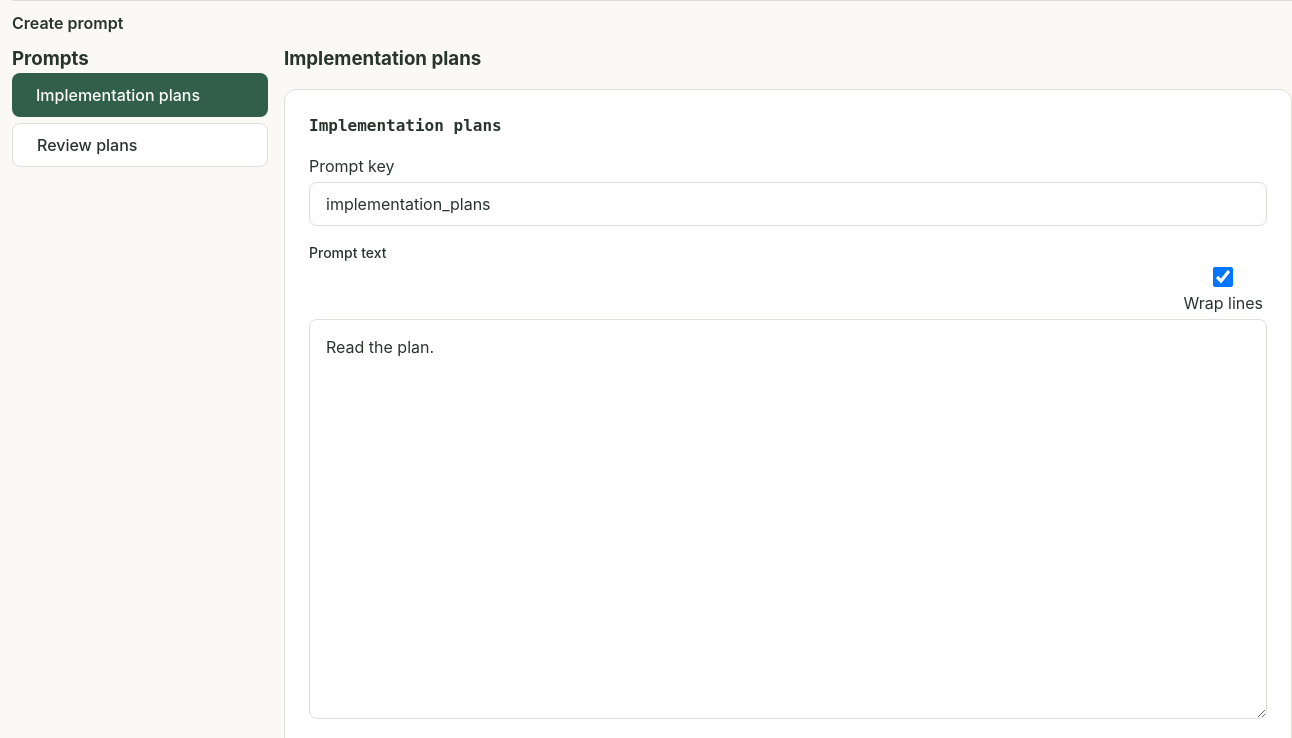
Test: PromptsSettings › opens and closes the More menu with the keyboard
Click the button "Review plans" at {"x": 140, "y": 145}, box top-left (12, 123), bottom-right (268, 167)
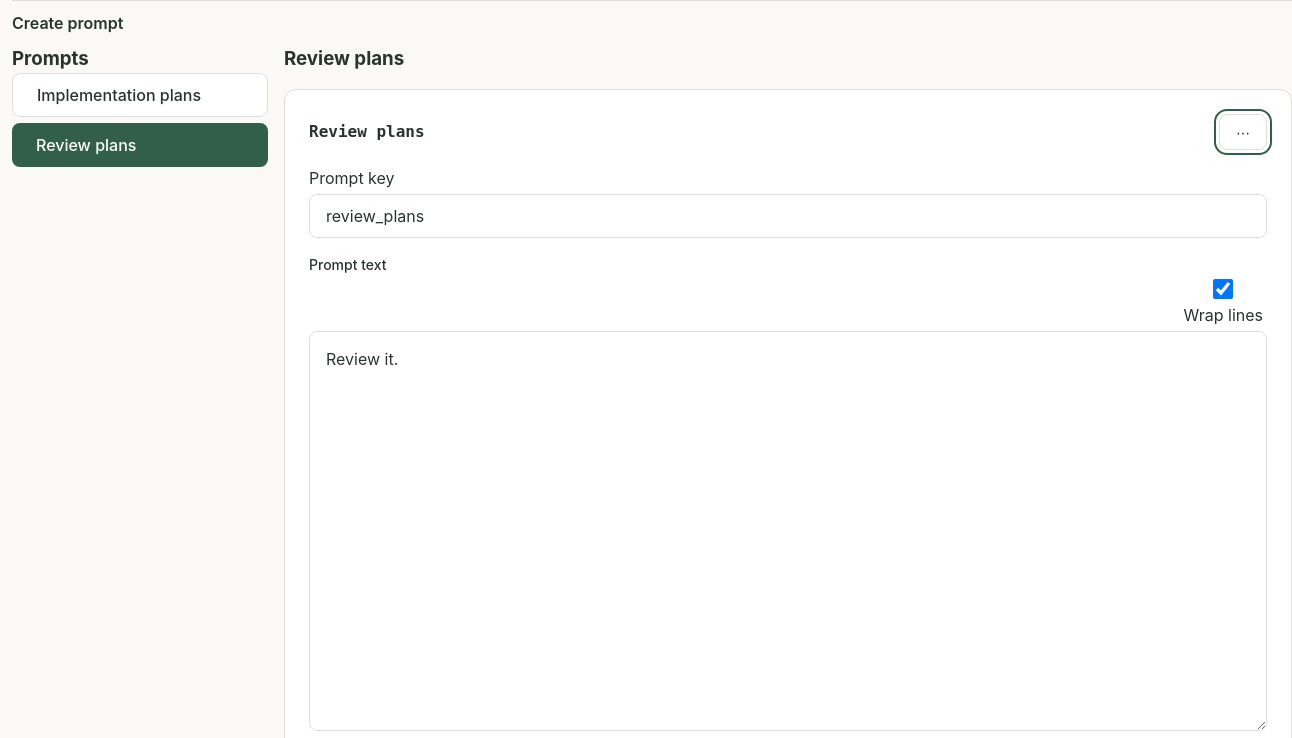
Click the button named "More actions for prompt Review plans" at {"x": 1243, "y": 132}, box top-left (1219, 114), bottom-right (1267, 150)
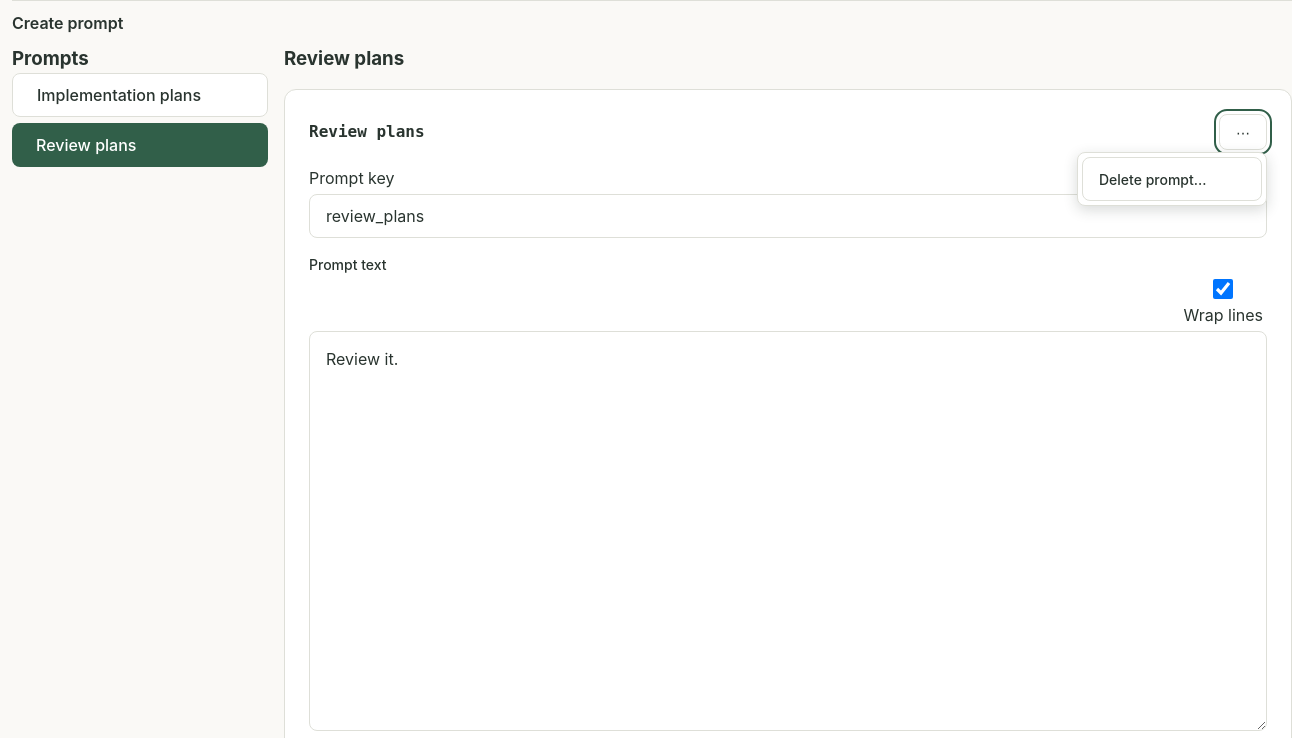
Press Escape in the button named "More actions for prompt Review plans", box top-left (1219, 114), bottom-right (1267, 150)
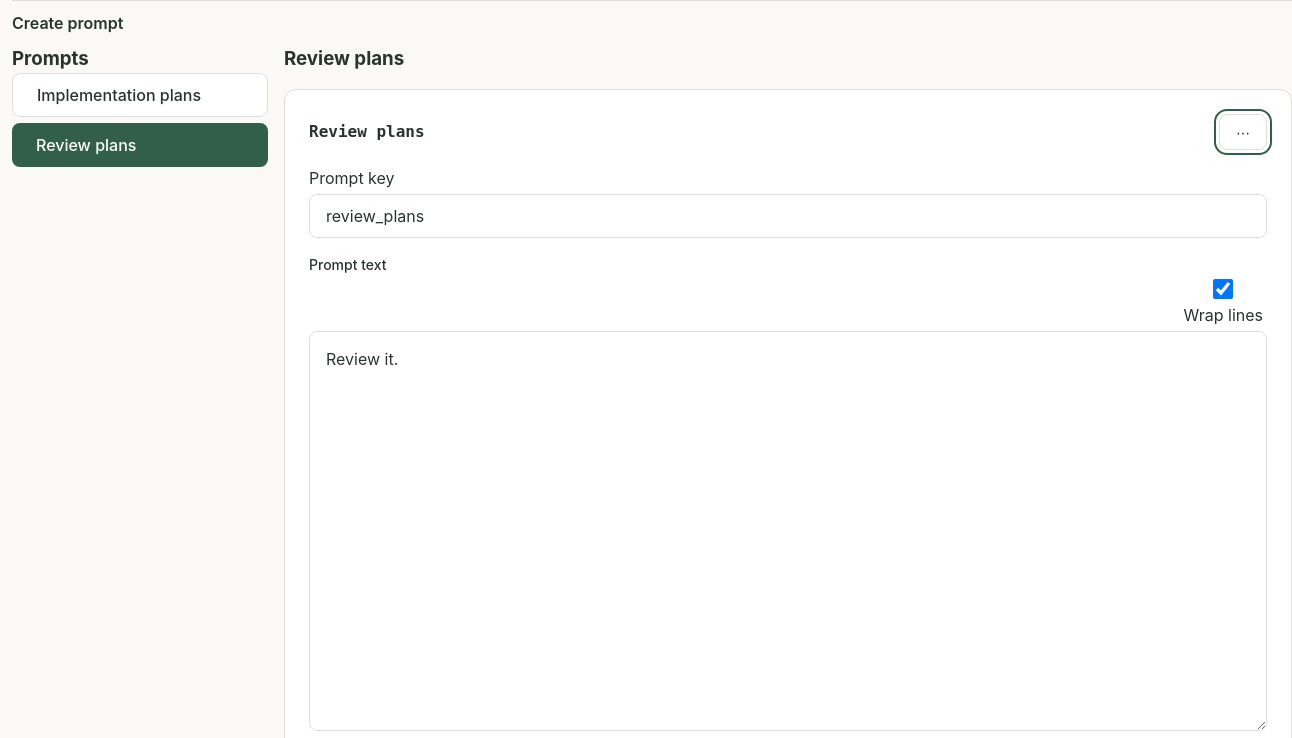
expect the menu item "Delete prompt…" is gone: met
